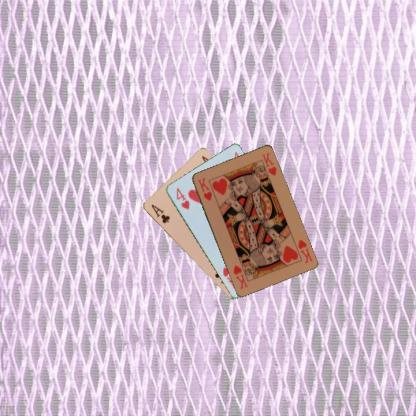4h: (173, 185, 191, 211)
Ac: (149, 201, 171, 224)
Kh: (295, 236, 314, 264), (195, 175, 213, 202)
